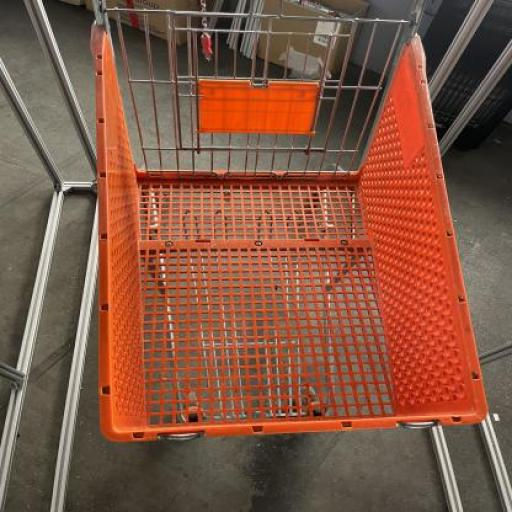shopping_cart: (86, 0, 491, 443)
